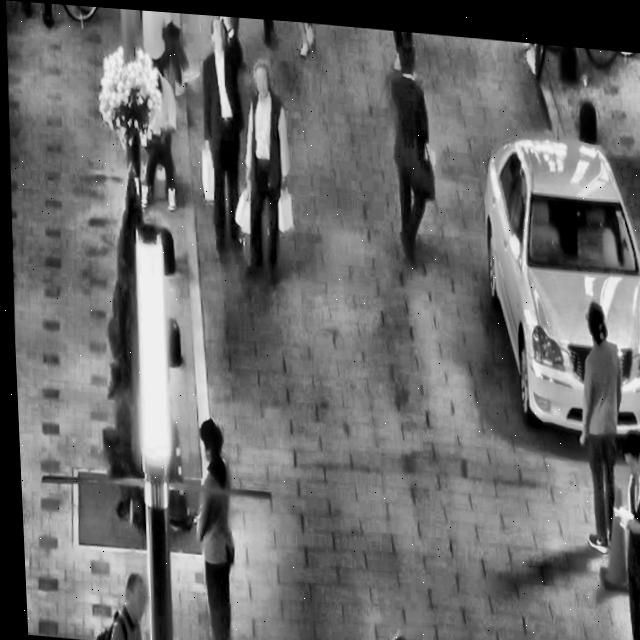light_vehicle: (469, 103, 640, 436)
